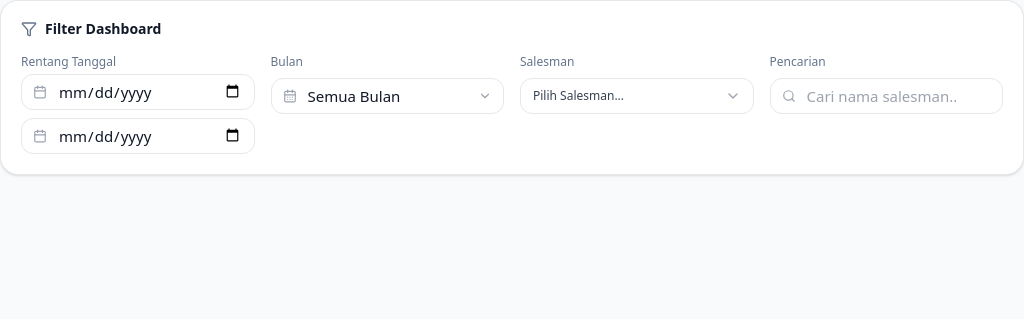
Test: FilterBar › Requirement 6.3 — salesman dropdown search / filtering › shows "Tidak ada salesman ditemukan" when search has no matches
Click the button "Pilih Salesman..." at (637, 96), box [520, 78, 754, 114]
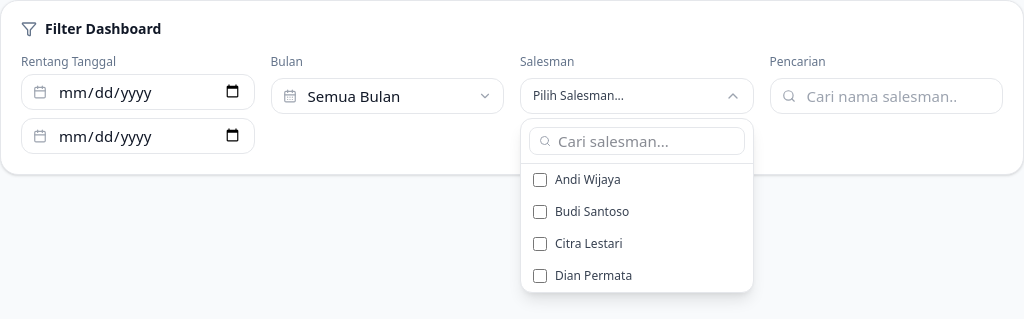
Type "xyz_no_match" into the field with placeholder "Cari salesman..." at (637, 141), box [529, 127, 744, 155]
Wait 400 ms
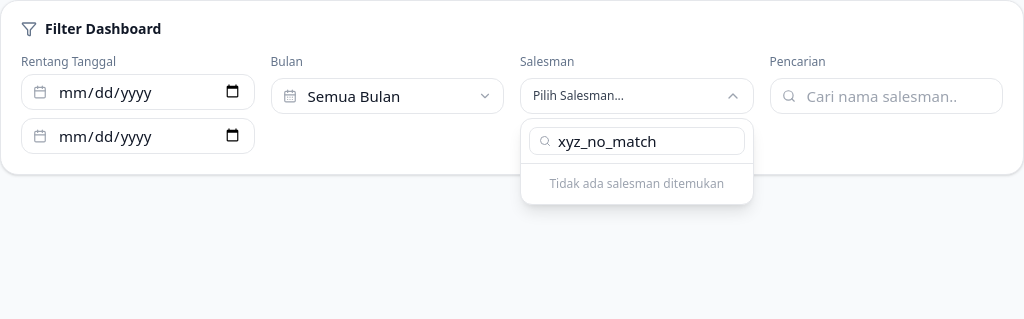
Expected: the text "Tidak ada salesman ditemukan" is shown, [549, 175, 724, 192]
